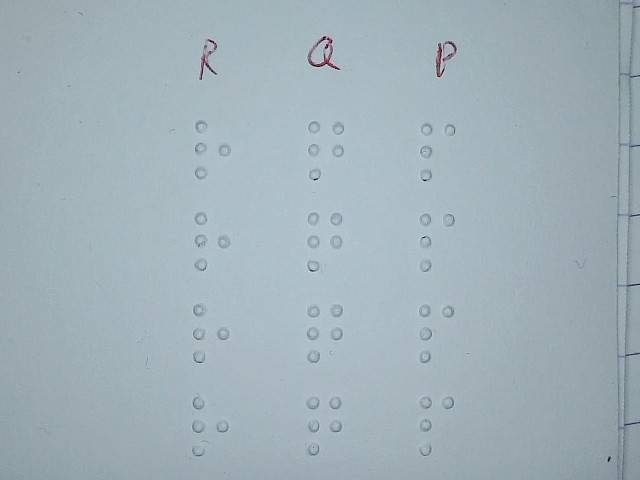P: (417, 120, 459, 182), (416, 210, 458, 272), (415, 301, 457, 363), (415, 394, 457, 456)
Q: (305, 119, 347, 181), (304, 210, 346, 272), (304, 301, 346, 363), (303, 394, 345, 456)
R: (192, 118, 234, 180), (191, 210, 233, 272), (190, 301, 232, 363), (188, 394, 230, 456)
